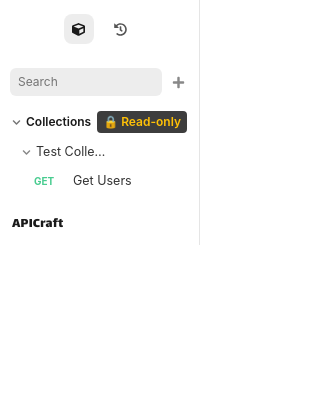
it: Sidebar Component Smoke Test › toggles to history mode and renders history entries
This screenshot has width=320, height=413.
Click on history tab
Click the button titled "History" at (120, 29), box [106,14,136,44]
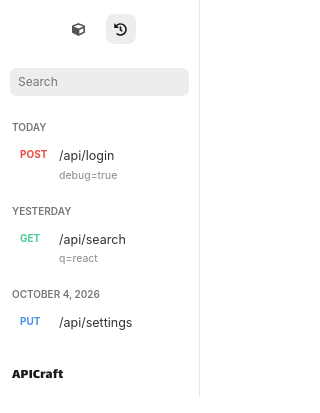
expect the text "/api/login" is shown: met, box [59,148,114,163]
expect the text "debug=true" is shown: met, box [59,169,117,182]
expect the text "/api/search" is shown: met, box [59,232,126,246]
